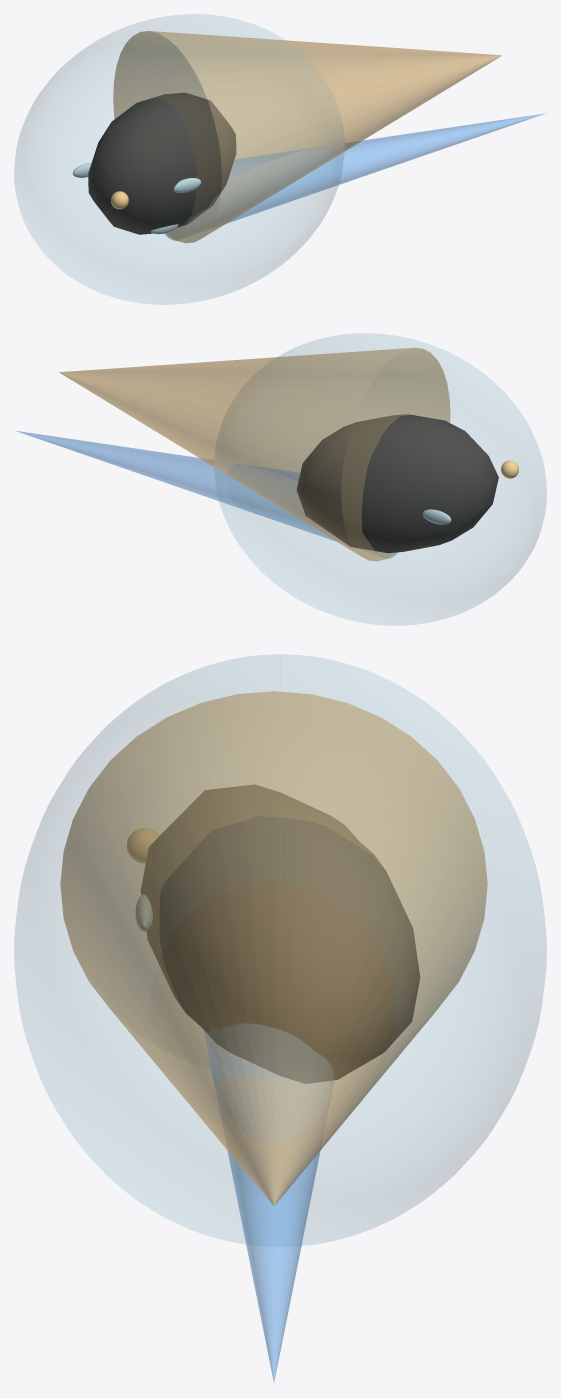
Rendered from comet-nucleus-authored.glb.
The picture shows the model from 3 angles, top to bottom: view 1: azimuth 30°, elevation 25°; view 2: azimuth 150°, elevation 25°; view 3: azimuth 270°, elevation 25°; orthographic projection. The views are drawn at different scales.
Parts seen in each view (by area): view 1: coma-transparent-gas-dust-cloud, dust-tail-broad-curved-fan-away-from-sun, icy-nucleus-dark-lumpy-core, ion-tail-narrow-blue-solar-wind-line; view 2: coma-transparent-gas-dust-cloud, dust-tail-broad-curved-fan-away-from-sun, icy-nucleus-dark-lumpy-core, ion-tail-narrow-blue-solar-wind-line; view 3: coma-transparent-gas-dust-cloud, dust-tail-broad-curved-fan-away-from-sun, icy-nucleus-dark-lumpy-core, ion-tail-narrow-blue-solar-wind-line.
Part boxes in pixels (left/top/right/bottom): coma-transparent-gas-dust-cloud: left=14, top=14, right=344, bottom=304; dust-tail-broad-curved-fan-away-from-sun: left=113, top=31, right=501, bottom=243; icy-nucleus-dark-lumpy-core: left=88, top=92, right=236, bottom=234; ion-tail-narrow-blue-solar-wind-line: left=165, top=113, right=545, bottom=240; coma-transparent-gas-dust-cloud: left=214, top=333, right=546, bottom=625; dust-tail-broad-curved-fan-away-from-sun: left=59, top=347, right=450, bottom=561; icy-nucleus-dark-lumpy-core: left=296, top=414, right=498, bottom=553; ion-tail-narrow-blue-solar-wind-line: left=15, top=430, right=397, bottom=558; coma-transparent-gas-dust-cloud: left=14, top=654, right=546, bottom=1245; dust-tail-broad-curved-fan-away-from-sun: left=60, top=691, right=487, bottom=1205; icy-nucleus-dark-lumpy-core: left=141, top=785, right=420, bottom=1083; ion-tail-narrow-blue-solar-wind-line: left=204, top=1024, right=334, bottom=1382.
Size of what is drawn, in the model's own units: 3.62 by 1.76 by 1.65.
